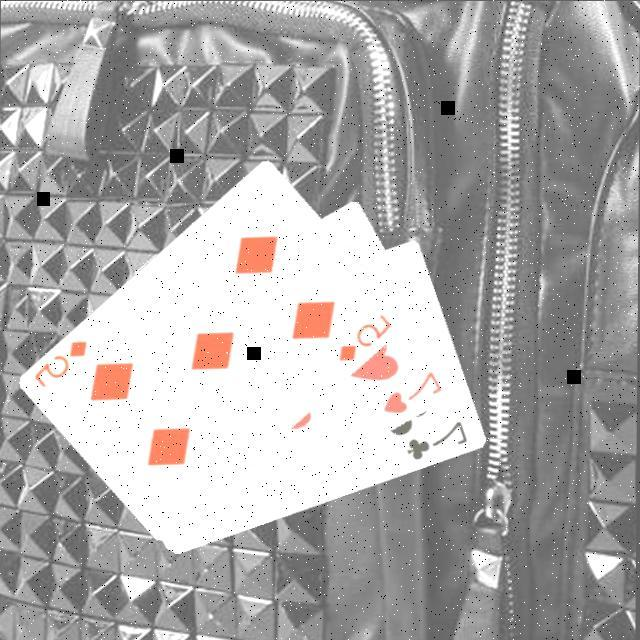5D: (336, 309, 397, 364), (33, 335, 93, 389)
7C: (405, 416, 473, 462)
7H: (381, 366, 447, 416)
